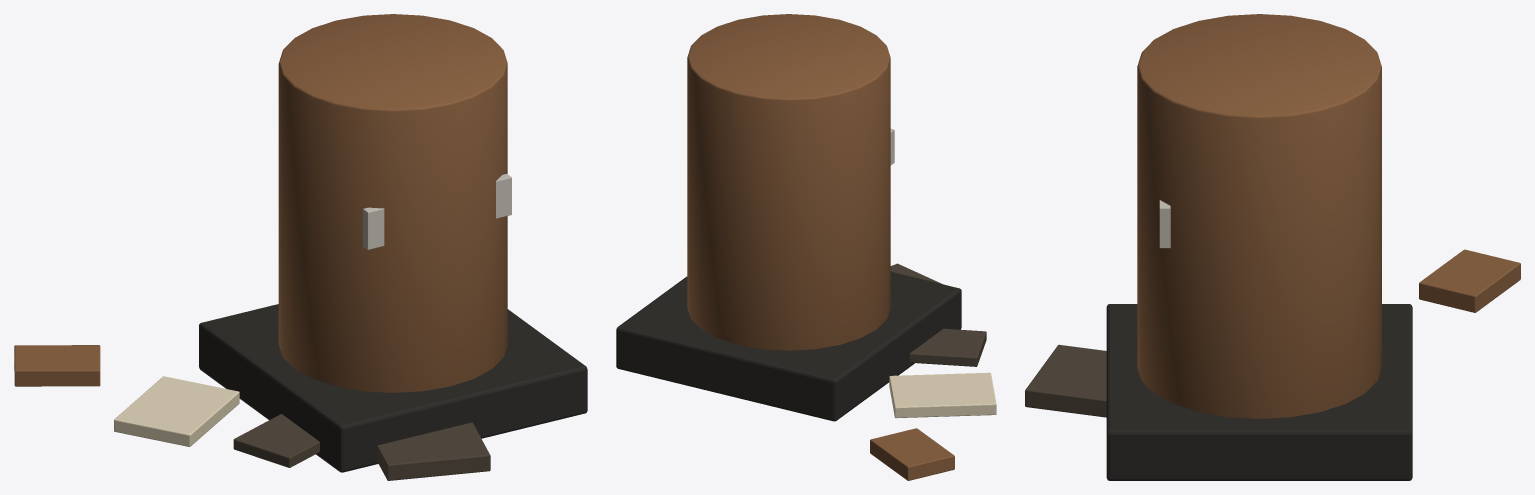
Rendered from dz_urban_traffic_cone_premium.glb.
The picture shows the model from 3 angles, left to right: view 1: azimuth 30°, elevation 25°; view 2: azimuth 150°, elevation 25°; view 3: azimuth 270°, elevation 25°; orthographic projection. The views are drawn at different scales.
Visible parts, largest first — view 1: traffic_cone_body, traffic_cone_base, cone_debris_04, cone_debris_03, cone_debris_02, cone_debris_01, traffic_cone_white_stripe; view 2: traffic_cone_body, traffic_cone_base, cone_debris_04, cone_debris_02, cone_debris_01; view 3: traffic_cone_body, traffic_cone_base, cone_debris_03, cone_debris_02, traffic_cone_white_stripe.
Boxes of the visible parts, x1=… form: traffic_cone_body: x1=278, y1=14, x2=507, y2=392; traffic_cone_base: x1=199, y1=304, x2=587, y2=472; cone_debris_04: x1=114, y1=376, x2=239, y2=446; cone_debris_03: x1=377, y1=422, x2=490, y2=480; cone_debris_02: x1=14, y1=345, x2=100, y2=386; cone_debris_01: x1=233, y1=414, x2=319, y2=467; traffic_cone_white_stripe: x1=363, y1=174, x2=511, y2=249; traffic_cone_body: x1=687, y1=14, x2=890, y2=350; traffic_cone_base: x1=616, y1=271, x2=961, y2=421; cone_debris_04: x1=889, y1=372, x2=996, y2=418; cone_debris_02: x1=870, y1=428, x2=954, y2=480; cone_debris_01: x1=909, y1=328, x2=986, y2=366; traffic_cone_body: x1=1137, y1=14, x2=1381, y2=418; traffic_cone_base: x1=1106, y1=304, x2=1412, y2=480; cone_debris_03: x1=1025, y1=344, x2=1106, y2=417; cone_debris_02: x1=1419, y1=249, x2=1520, y2=312; traffic_cone_white_stripe: x1=1159, y1=200, x2=1170, y2=248.
Size of the model in its own units: 0.9019 by 0.7 by 0.8914.
